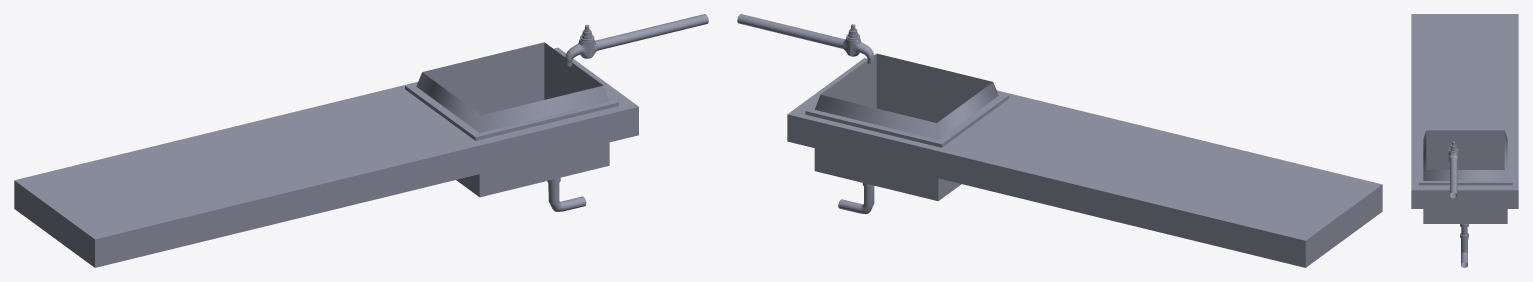
Rendered from bacha.fbx.
3 views of the same model, side by side, from view 1: azimuth 30°, elevation 25°; view 2: azimuth 150°, elevation 25°; view 3: azimuth 270°, elevation 25° (orthographic). The views are drawn at different scales.
Parts seen in each view (by area): view 1: bacha; view 2: bacha; view 3: bacha.
Part boxes in pixels (x1=…): bacha: x1=14, y1=14, x2=708, y2=267; bacha: x1=737, y1=14, x2=1382, y2=267; bacha: x1=1411, y1=14, x2=1518, y2=267.
Bounding box in the file's own units: 5.89 × 1.64 × 1.28.
